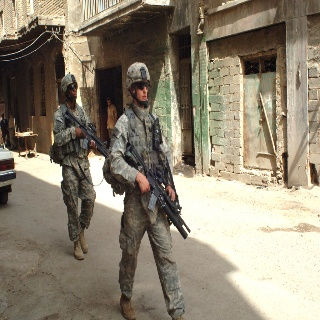rifle: (124, 143, 191, 240), (58, 102, 115, 161)
